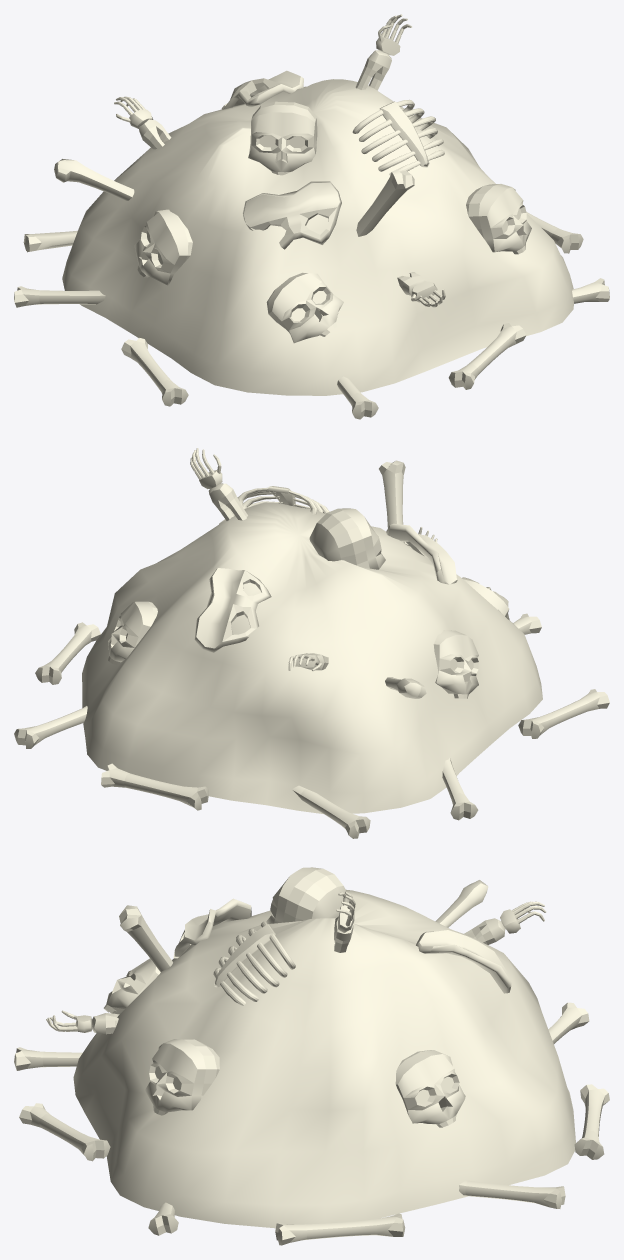
File: PilaDeHuesos_FBX.fbx
3 views of the same model, one above another, from view 1: azimuth 30°, elevation 25°; view 2: azimuth 150°, elevation 25°; view 3: azimuth 270°, elevation 25° (orthographic). The views are drawn at different scales.
Visible parts, largest first — view 1: PilaDeHuesos; view 2: PilaDeHuesos; view 3: PilaDeHuesos.
Boxes of the visible parts, bbox=[...] form: PilaDeHuesos: bbox=[14, 14, 609, 419]; PilaDeHuesos: bbox=[14, 448, 609, 838]; PilaDeHuesos: bbox=[14, 867, 609, 1245].
Size of the model in its own units: 2.07 by 1.04 by 2.01.
